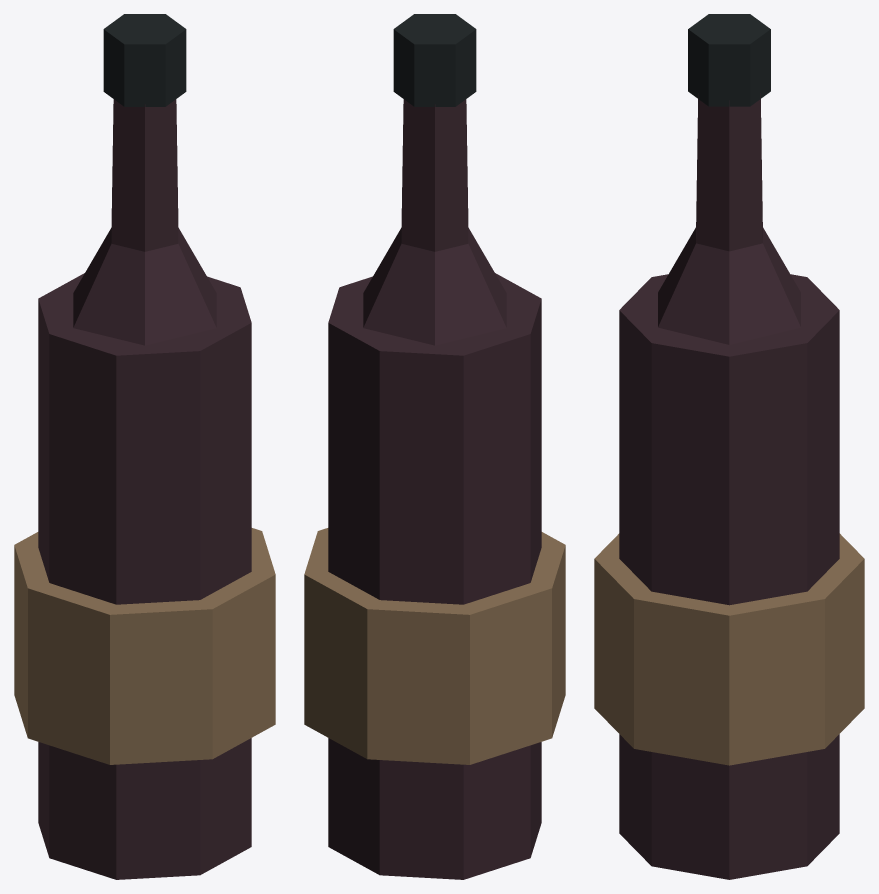
The model's file is sticla_rom.glb.
The picture shows the model from 3 angles, left to right: view 1: azimuth 30°, elevation 25°; view 2: azimuth 150°, elevation 25°; view 3: azimuth 270°, elevation 25°; orthographic projection.
Parts seen in each view (by area): view 1: Sticla; view 2: Sticla; view 3: Sticla.
Boxes of the visible parts, box(x1,y1,x2,y2) form: Sticla: box(14, 14, 275, 879); Sticla: box(304, 14, 565, 879); Sticla: box(594, 14, 864, 879).
Bounding box in the file's own units: 0.098 × 0.322 × 0.098.
